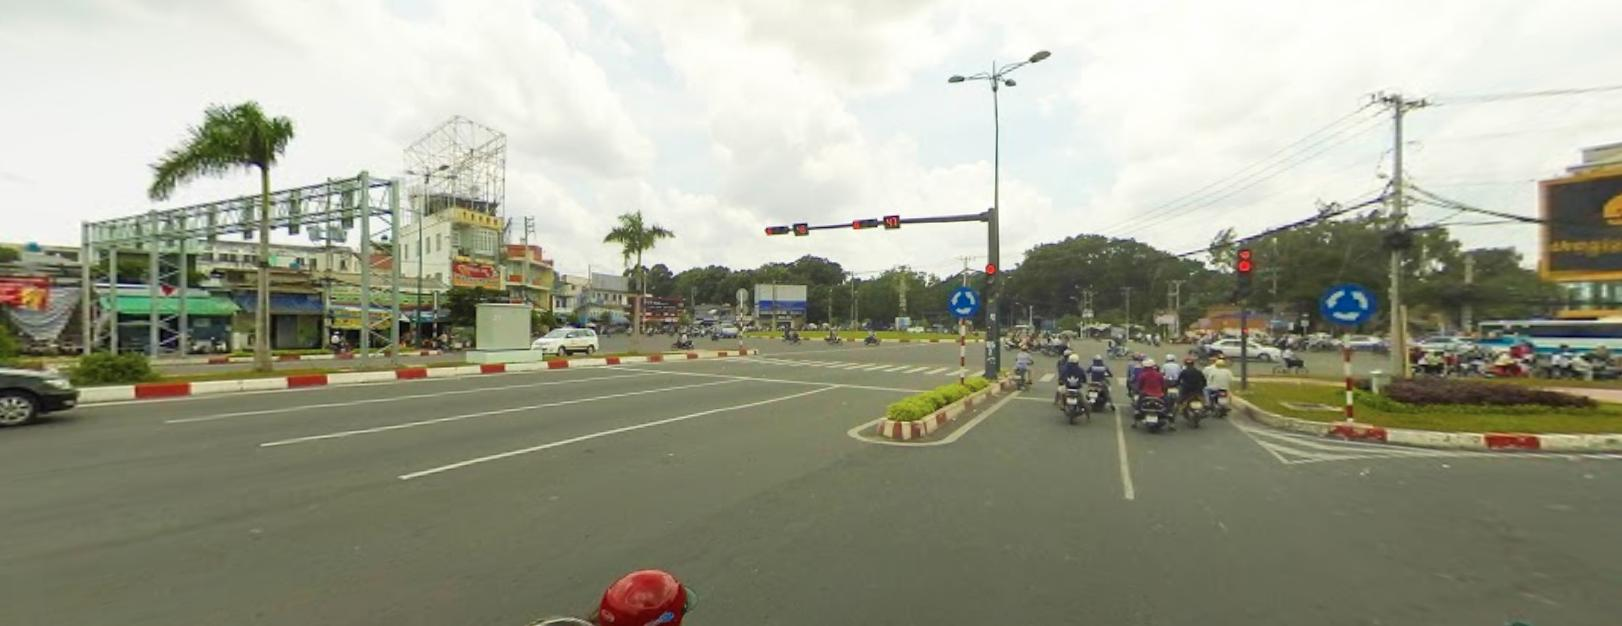Hieu lenh: (1317, 282, 1376, 324), (948, 286, 979, 314)
